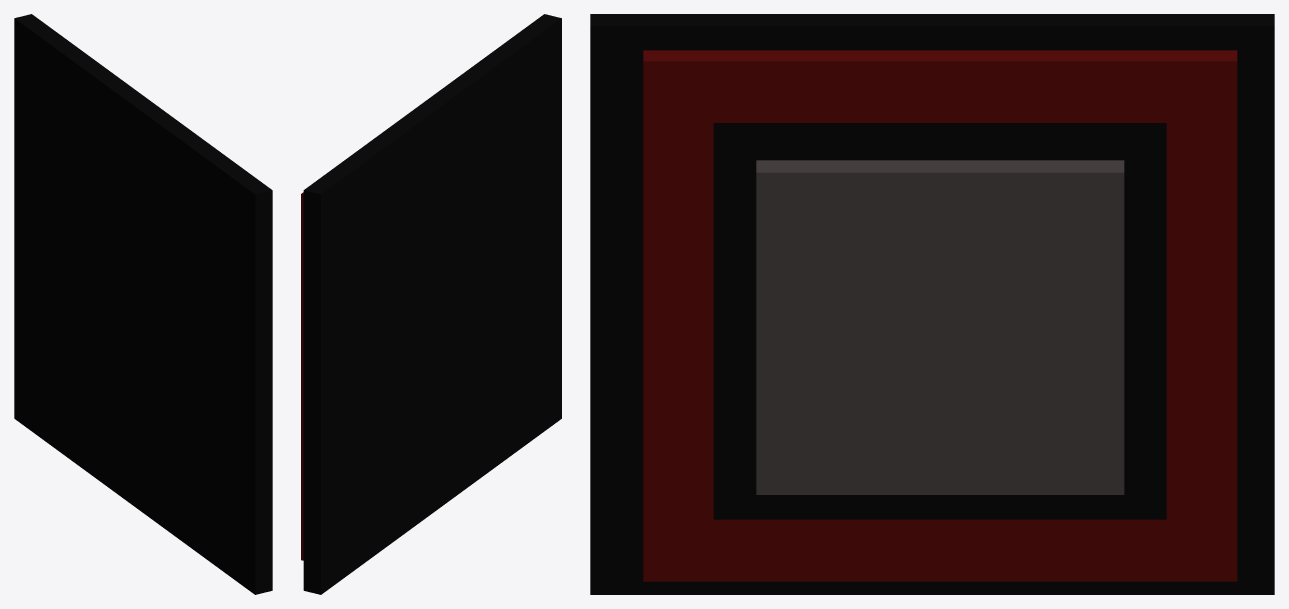
The model's file is VentDoor.fbx.
The picture shows the model from 3 angles, left to right: view 1: azimuth 30°, elevation 25°; view 2: azimuth 150°, elevation 25°; view 3: azimuth 270°, elevation 25°; orthographic projection. The views are drawn at different scales.
Parts seen in each view (by area): view 1: pCube1; view 2: pCube1; view 3: pCube1.
Boxes of the visible parts, x1,y1,x2,y2 form: pCube1: (14,14,272,594); pCube1: (301,14,561,594); pCube1: (590,14,1274,594).
Bounding box in the file's own units: 0.4386 × 3.3 × 3.6.
